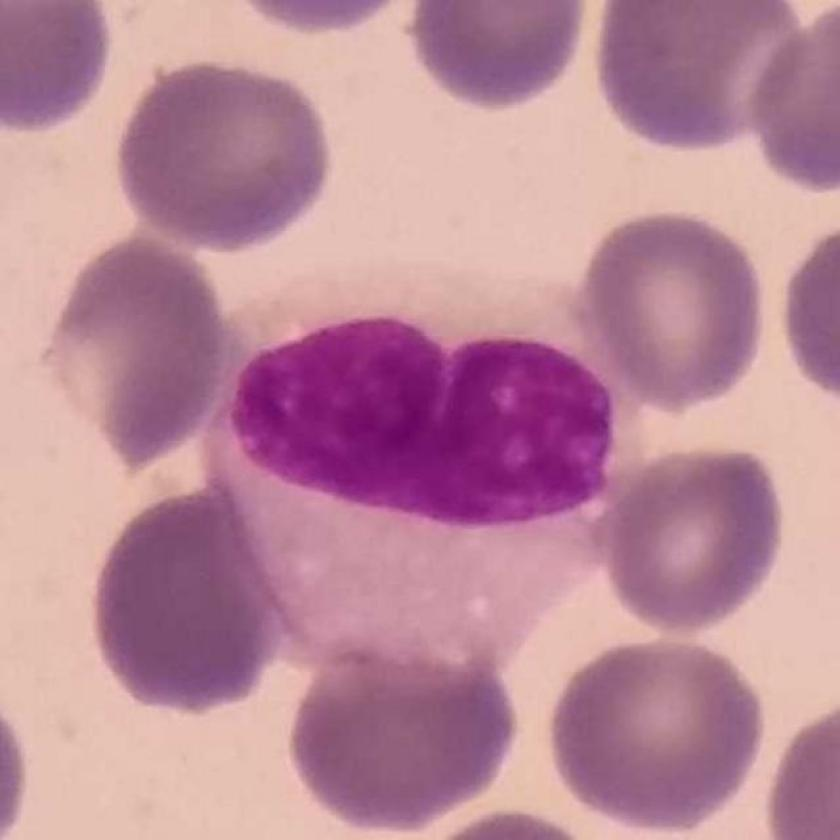monocyte: (190, 268, 669, 692)
